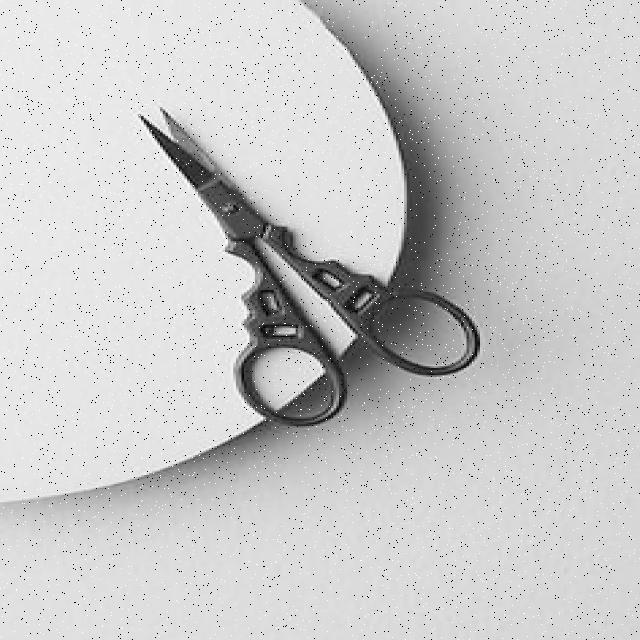scissors: (132, 104, 491, 432)
